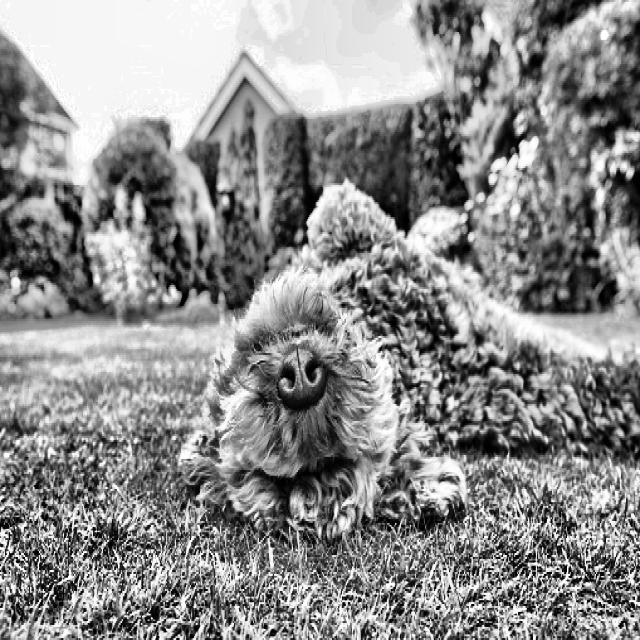poodle: (154, 235, 482, 578)
